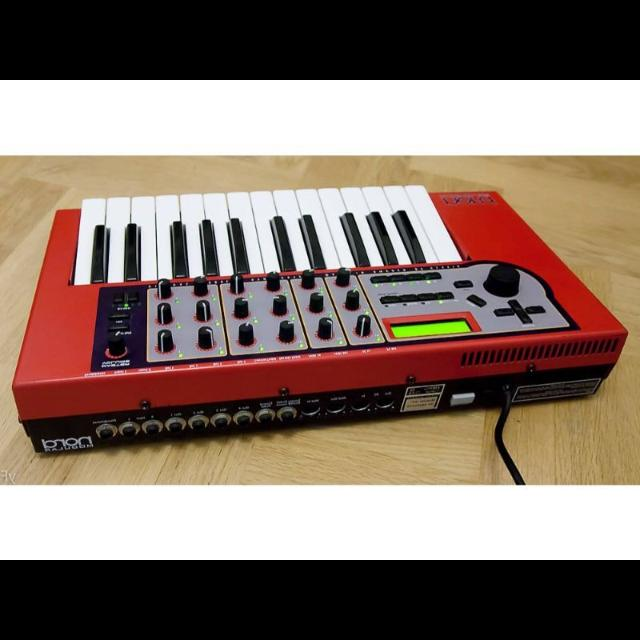Electronic-Keyboard: (25, 185, 628, 463)
